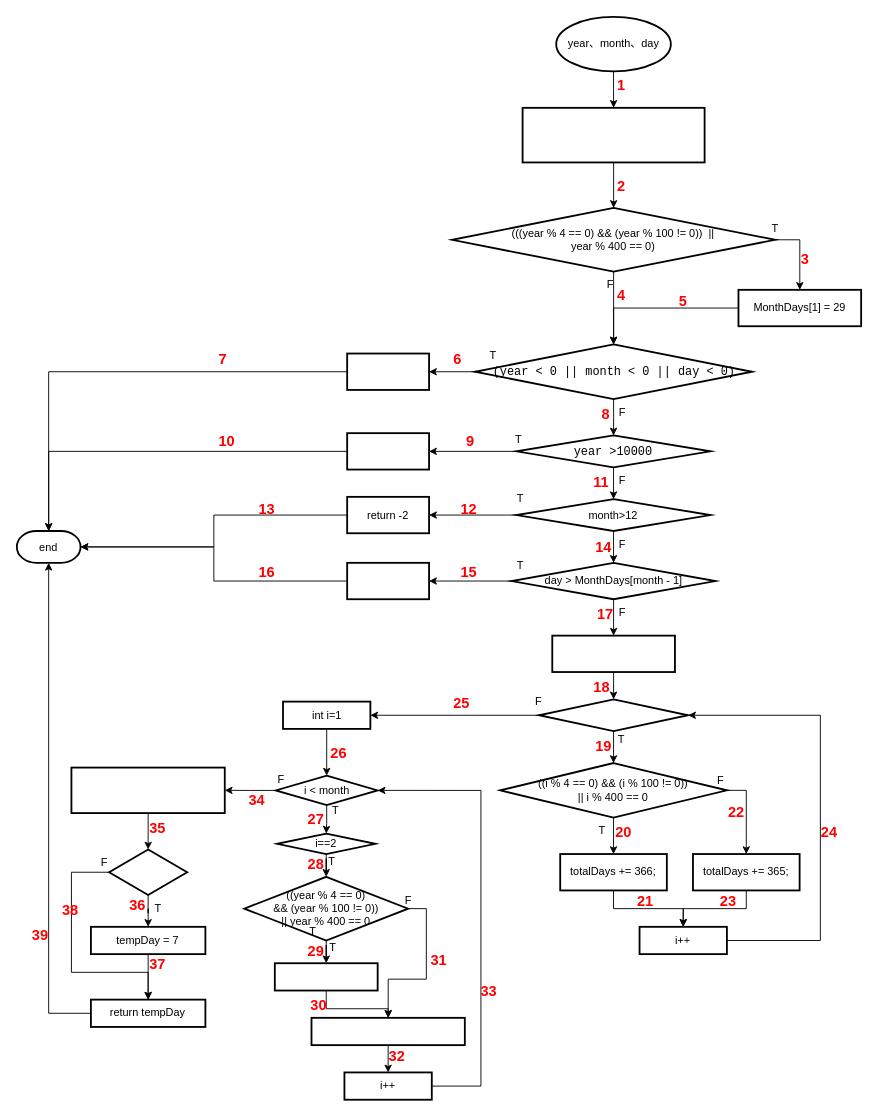
This 877x1116 diagram has some shape labels left out. Here are the shapes that lost their labels. From the top down, the centre of each, then its label:
At (613,134): "int[] MonthDays = { 31, 28, 31, 30, 31, 30, 31, 31, 30, 31, 30, 31 };".
At (388,371): "return 0".
At (388,451): "return -1".
At (388,580): "return -3".
At (613,653): "int totalDays = 0; int i=1".
At (613,715): "i<year".
At (147,790): "totalDays += day int tempDay = totalDays % 7;".
At (148,871): "tempDay==0".
At (325,976): "MonthDays[1] = 29;".
At (387,1031): "totalDays += MonthDays[i - 1]".
